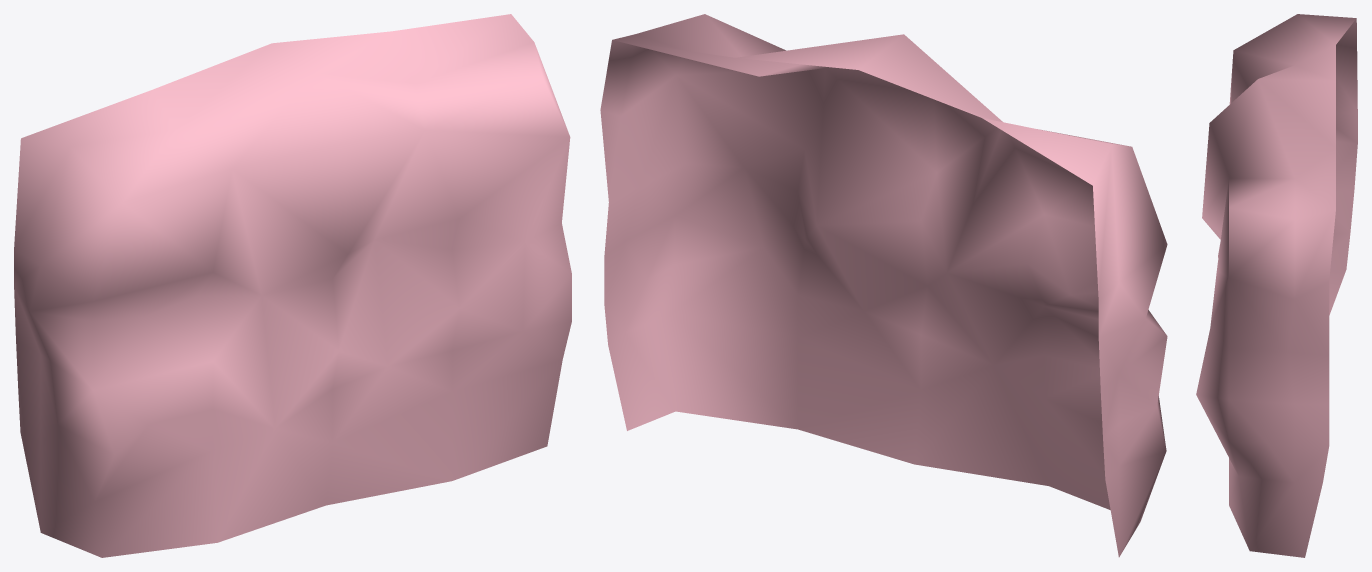
3 renders of one model, left to right at view 1: azimuth 30°, elevation 25°; view 2: azimuth 150°, elevation 25°; view 3: azimuth 270°, elevation 25°, orthographic. The views are drawn at different scales.
Visible parts, largest first — view 1: Object41; view 2: Object41; view 3: Object41.
Boxes of the visible parts, bbox=[...] form: Object41: bbox=[14, 14, 571, 557]; Object41: bbox=[600, 14, 1167, 557]; Object41: bbox=[1196, 14, 1357, 557].
Bounding box in the file's own units: 471 × 371 × 145.
